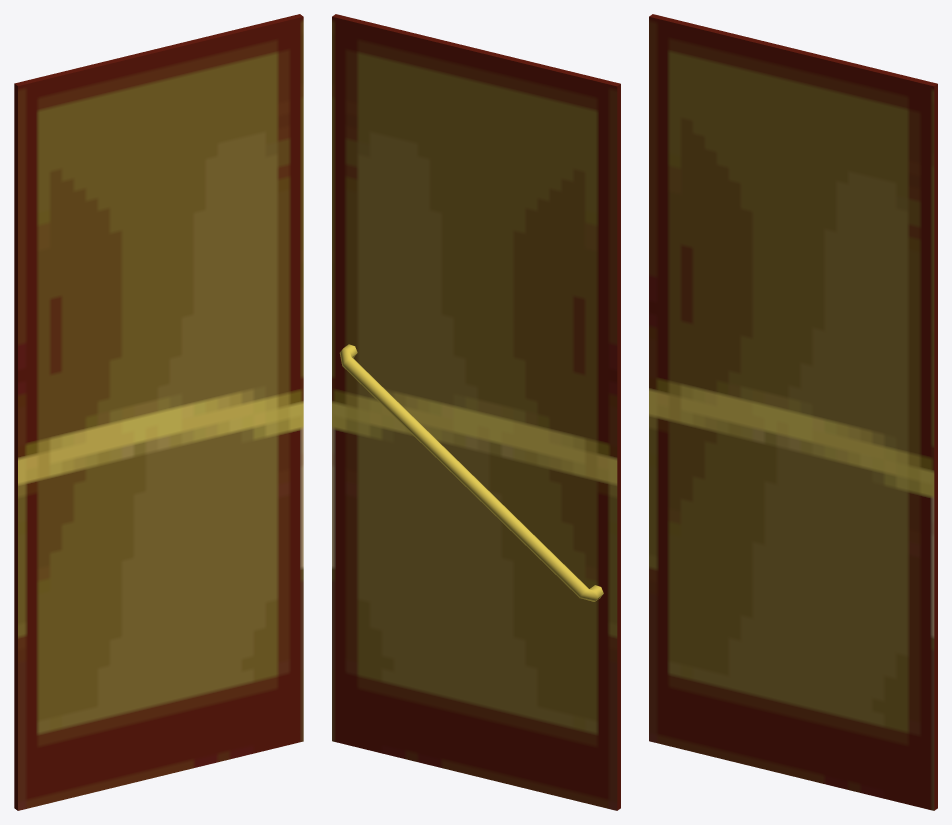
The model's file is door3.glb.
The picture shows the model from 3 angles, left to right: view 1: azimuth 30°, elevation 25°; view 2: azimuth 150°, elevation 25°; view 3: azimuth 330°, elevation 25°; orthographic projection.
Parts seen in each view (by area): view 1: Object_86; view 2: Object_86; view 3: Object_86.
Boxes of the visible parts, box(x1,y1,x2,y2) form: Object_86: box(14, 14, 303, 810); Object_86: box(332, 14, 620, 810); Object_86: box(649, 14, 937, 810).
Bounding box in the file's own units: 1.25 × 3.04 × 0.1199.
1 material, 1 textured.
